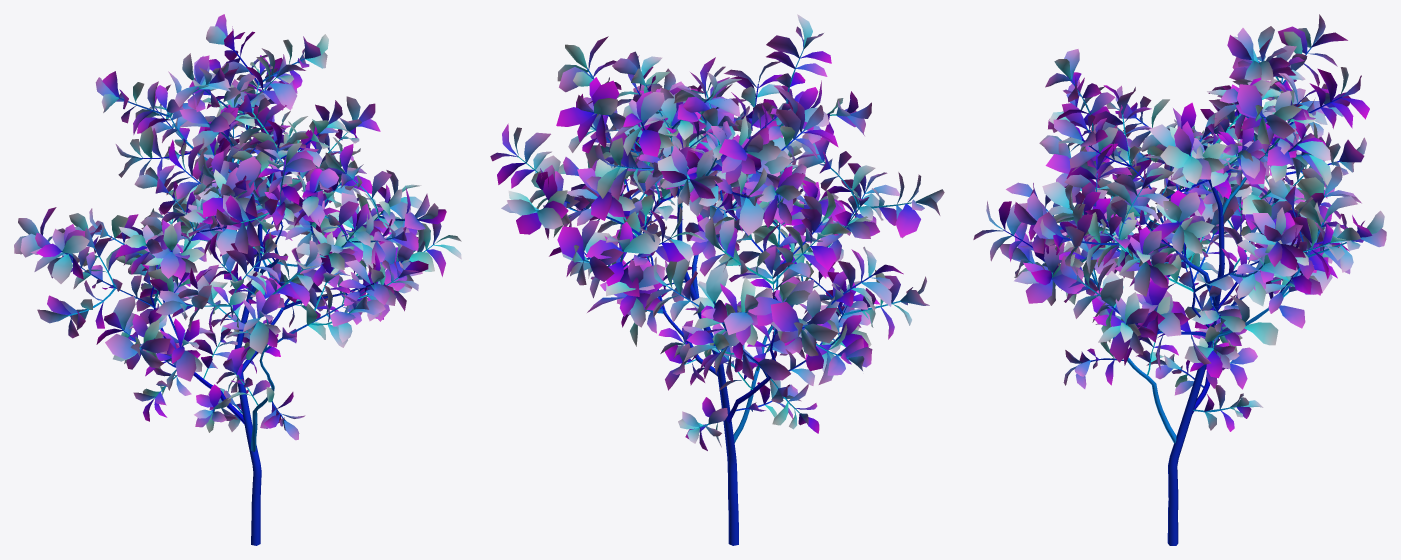
File: European_Spindle_wk1ncbxja_Mid_wk1ncbxja_VarA_LOD1.fbx
3 renders of one model, left to right at view 1: azimuth 30°, elevation 25°; view 2: azimuth 150°, elevation 25°; view 3: azimuth 270°, elevation 25°, orthographic. The views are drawn at different scales.
Visible parts, largest first — view 1: _fm9v_VarA_LOD2; view 2: _fm9v_VarA_LOD2; view 3: _fm9v_VarA_LOD2.
Part boxes in pixels (left/top/right/bottom): _fm9v_VarA_LOD2: left=14, top=14, right=461, bottom=545; _fm9v_VarA_LOD2: left=490, top=14, right=944, bottom=545; _fm9v_VarA_LOD2: left=973, top=14, right=1386, bottom=545.
Bounding box in the file's own units: 146 × 175 × 129.
